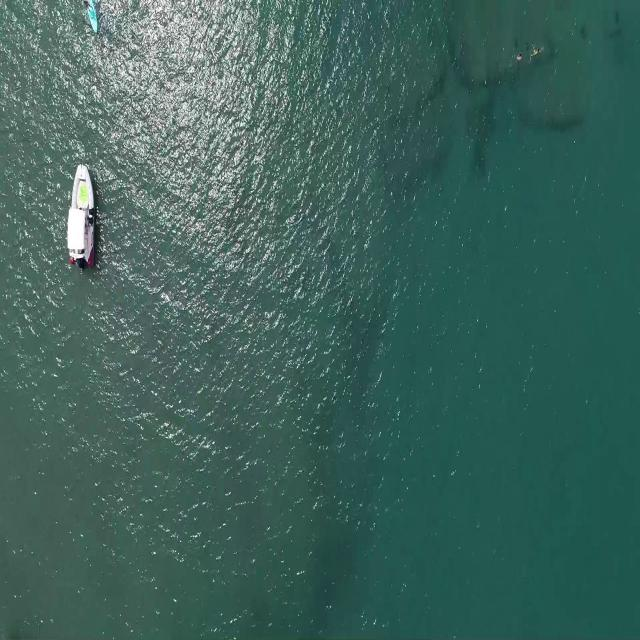boat: (65, 154, 97, 274)
person: (530, 47, 546, 58), (516, 52, 524, 62)
surfboard: (85, 1, 98, 35)
